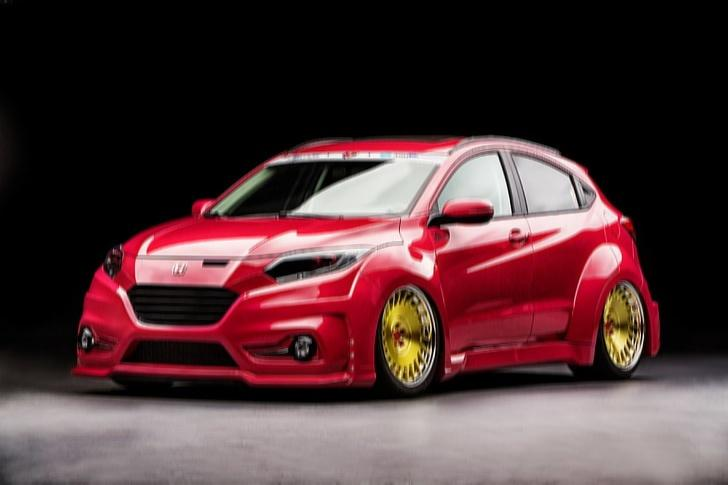Car hood: (117, 214, 407, 260)
Fender - -F-L-: (353, 210, 451, 375)
Fender - -R-L-: (597, 197, 640, 289)
Front bumper: (67, 283, 393, 401)
Headlight - -L-: (258, 241, 376, 289)
Headlight - -R-: (97, 236, 132, 282)
Passenger-s door - -F-L-: (433, 140, 535, 357)
Passenger-s door - -R-L-: (534, 144, 620, 357)
Rear bumper: (642, 279, 676, 362)
Rear light - -L-: (615, 206, 642, 243)
Side bumper - -L-: (438, 333, 604, 383)
Side mirror - -L-: (423, 195, 500, 234)
Side mirror - -R-: (184, 193, 221, 222)
